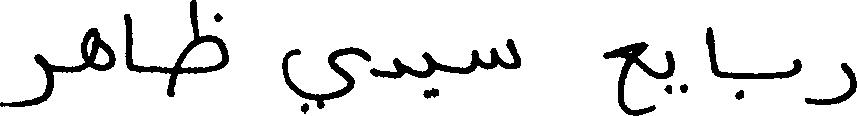X: (282, 42, 370, 115), (177, 0, 229, 80), (604, 37, 648, 115), (0, 49, 53, 111), (808, 58, 856, 109), (474, 34, 519, 75), (80, 23, 113, 76), (372, 53, 402, 83), (705, 22, 719, 81), (425, 47, 436, 103), (125, 9, 132, 75), (667, 46, 674, 98), (791, 54, 801, 81)
